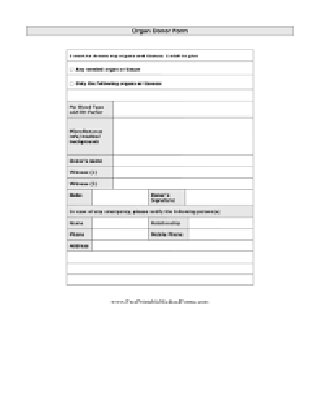checkbox: (68, 63, 75, 73), (68, 80, 75, 86)
textbox: (107, 114, 257, 158), (63, 258, 258, 276), (63, 271, 258, 289), (63, 249, 257, 265), (65, 86, 257, 102), (110, 99, 257, 119), (110, 151, 255, 171), (91, 237, 257, 254), (109, 174, 255, 192), (110, 162, 255, 180), (182, 185, 257, 208), (89, 185, 151, 206), (185, 224, 257, 242), (185, 213, 255, 229), (89, 224, 151, 242), (89, 213, 150, 231)
